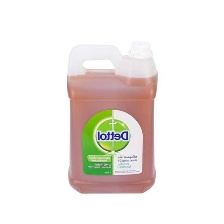cleaning_solution: (62, 35, 162, 199)
